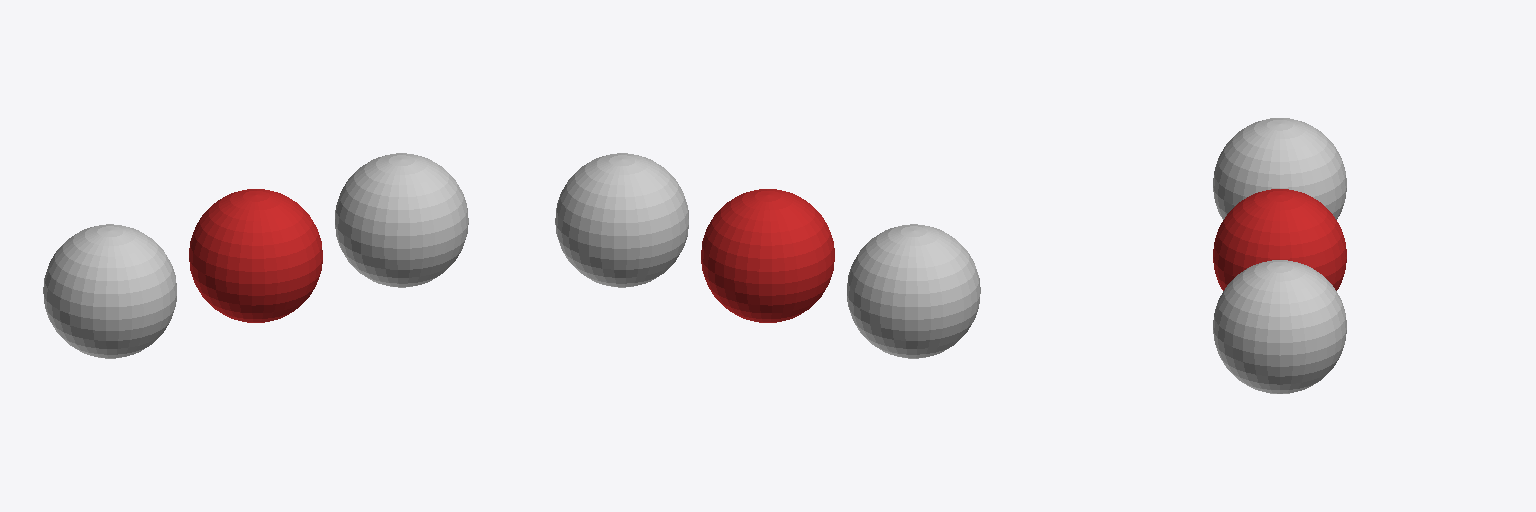
File: metal_rough_smooth.obj
3 views of the same model, side by side, from view 1: azimuth 30°, elevation 25°; view 2: azimuth 150°, elevation 25°; view 3: azimuth 270°, elevation 25° (orthographic).
Visible parts, largest first — view 1: Sphere.001, Sphere.002, Sphere; view 2: Sphere.001, Sphere.002, Sphere; view 3: Sphere.001, Sphere, Sphere.002.
Boxes of the visible parts, box(x1,y1,x2,y2) form: Sphere.001: box(335, 153, 468, 287); Sphere.002: box(43, 224, 176, 358); Sphere: box(189, 189, 322, 322); Sphere.001: box(555, 153, 688, 287); Sphere.002: box(847, 224, 980, 358); Sphere: box(701, 189, 834, 322); Sphere.001: box(1213, 260, 1346, 393); Sphere: box(1213, 189, 1346, 290); Sphere.002: box(1213, 118, 1346, 219).
Size of the model in its own units: 7 by 2 by 2.